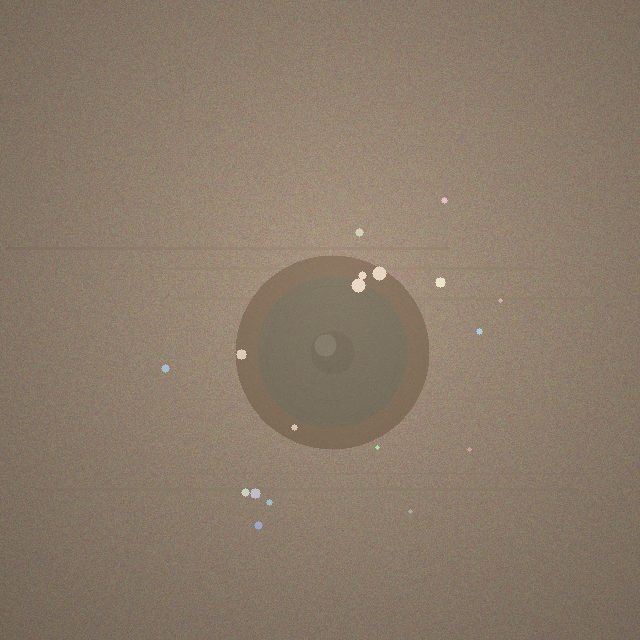overburn: (235, 255, 429, 449)
